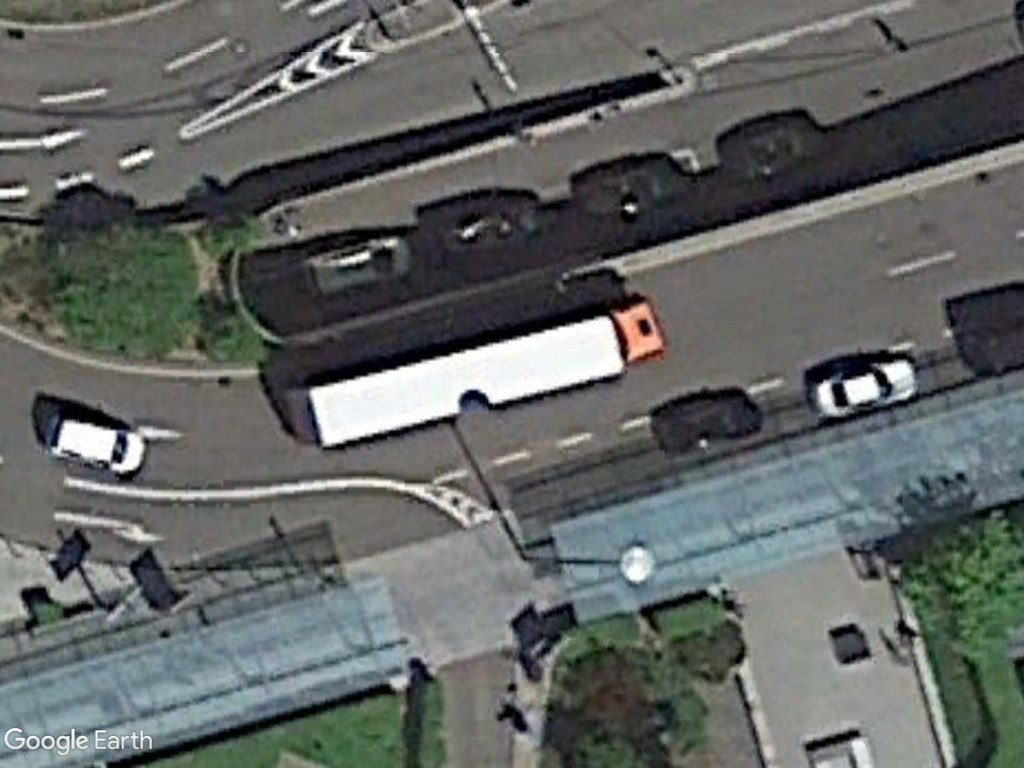car: (805, 357, 922, 423), (41, 412, 151, 477)
longvehicle: (295, 298, 670, 451)
